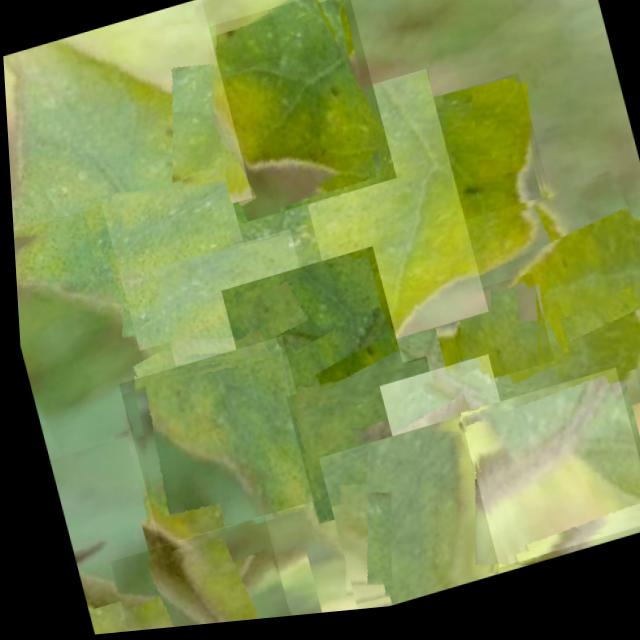leaf_spot: (1, 0, 251, 270), (150, 0, 395, 242), (280, 75, 484, 364), (10, 190, 205, 461), (310, 410, 542, 618), (440, 182, 640, 422), (112, 339, 318, 551), (451, 377, 640, 580), (215, 251, 407, 447), (145, 233, 324, 426), (402, 81, 561, 294), (97, 167, 258, 356), (278, 363, 452, 532), (101, 520, 285, 634), (372, 363, 508, 498), (438, 282, 549, 397)
